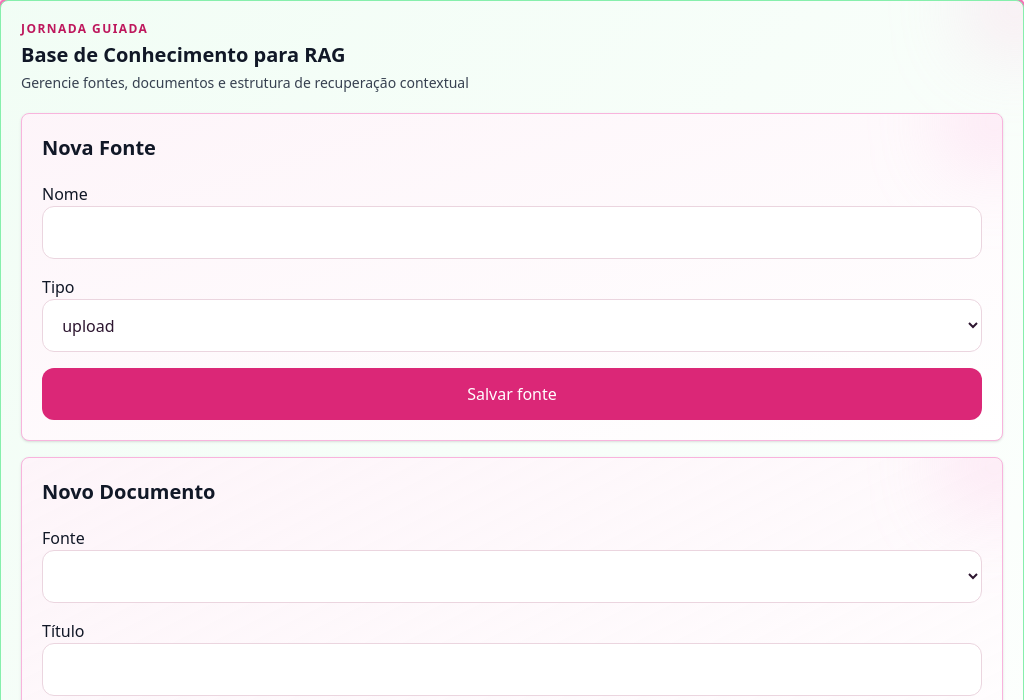
Scenario: KnowledgePage › mostra erro quando criação de fonte falha
This screenshot has width=1024, height=700.
Type "Fonte com erro" into the field labelled "Nome" at (512,233), box [42,206,982,259]
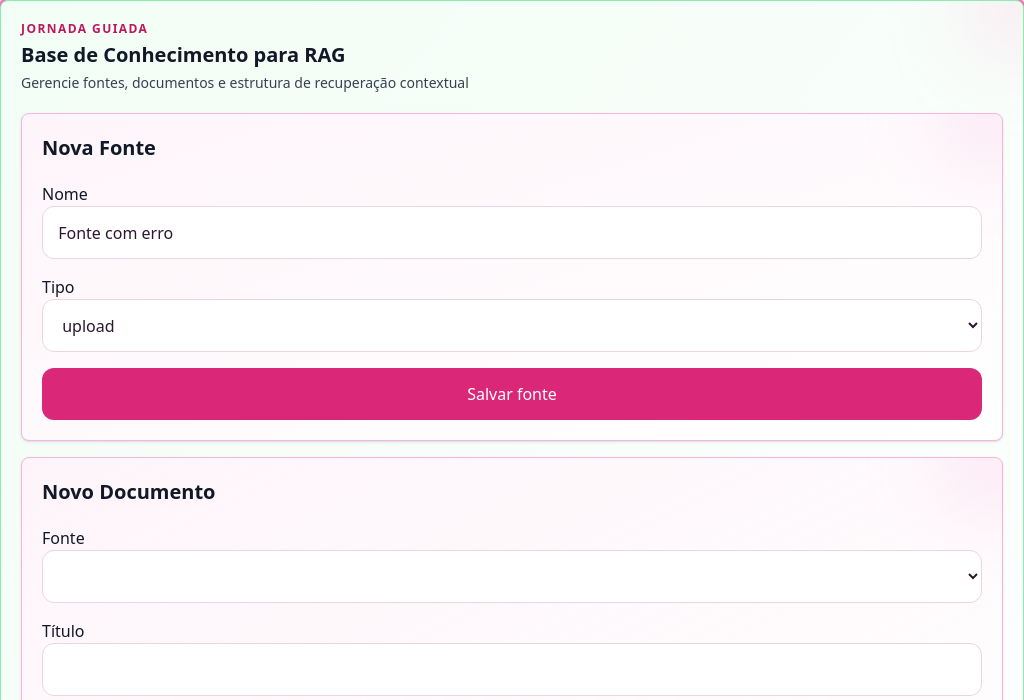
Click the button "Salvar fonte" at (512,394), box [42,368,982,420]
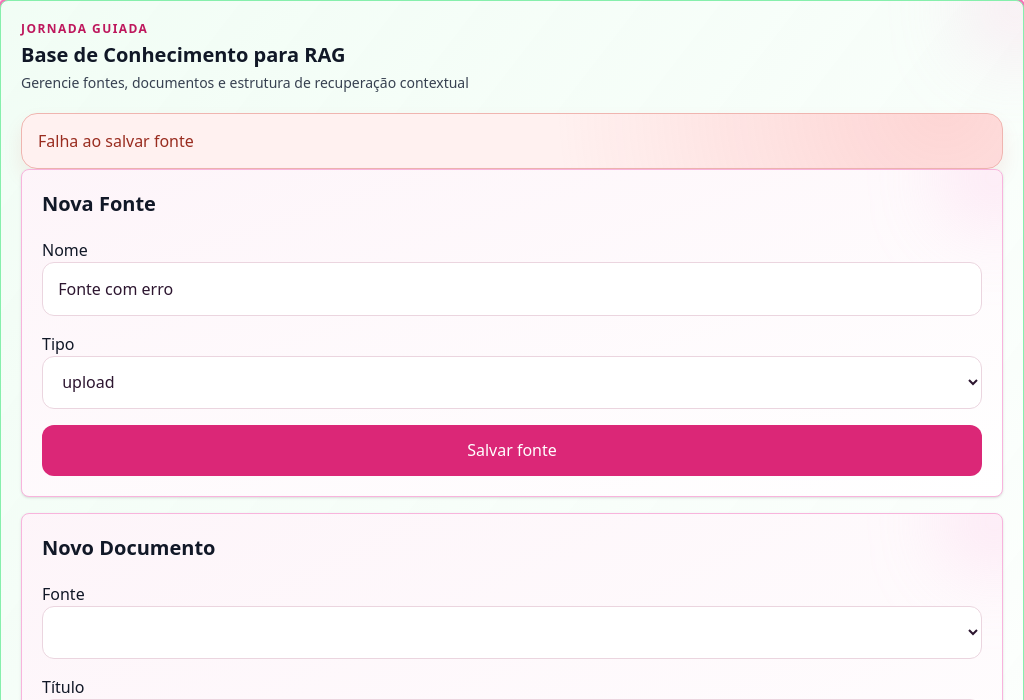
Now the text "Falha ao salvar fonte" is shown, box [21,113,1003,169]
